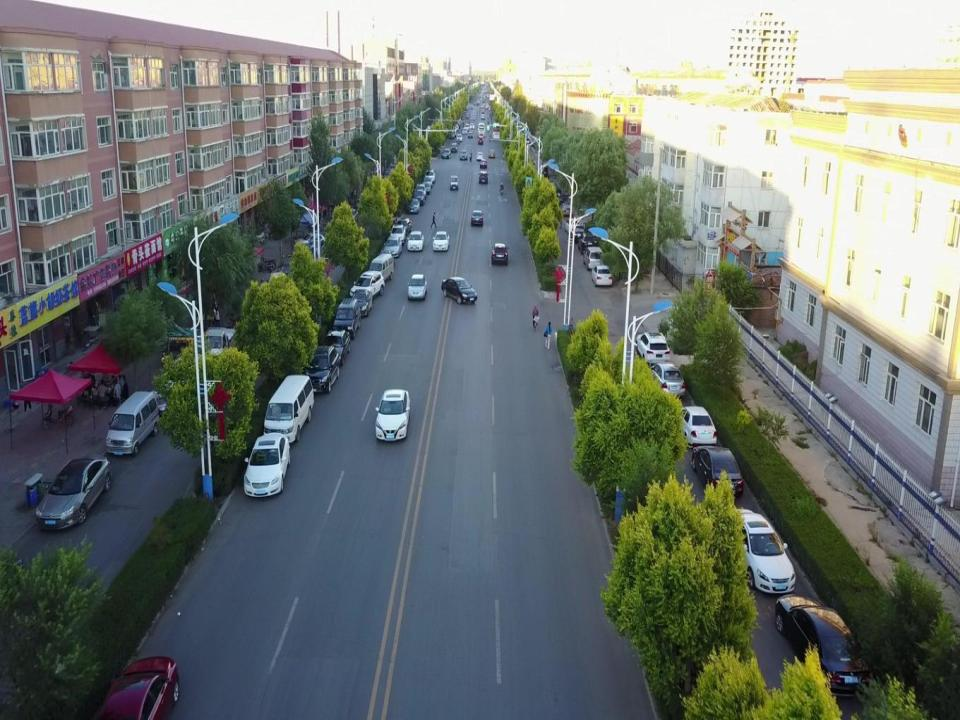car: (775, 594, 875, 696), (724, 508, 796, 594), (35, 454, 112, 530), (92, 655, 179, 720), (243, 431, 291, 499), (691, 444, 744, 499), (300, 344, 340, 394), (375, 389, 411, 441), (676, 406, 717, 449), (647, 362, 686, 398), (332, 297, 361, 340), (635, 331, 671, 365), (320, 327, 351, 366), (348, 269, 385, 301), (440, 277, 478, 304), (292, 232, 330, 255), (348, 289, 373, 318), (406, 273, 428, 300), (591, 265, 613, 287), (490, 243, 510, 265), (578, 231, 597, 253), (384, 235, 402, 258), (389, 223, 406, 246), (432, 231, 450, 252), (564, 216, 582, 236), (407, 231, 424, 252), (378, 248, 396, 266), (396, 216, 413, 234), (571, 225, 587, 244), (406, 196, 421, 214), (559, 200, 574, 217), (470, 210, 484, 227), (411, 188, 425, 205), (414, 182, 427, 198), (420, 181, 432, 195), (424, 168, 436, 182), (478, 170, 489, 185), (449, 174, 459, 190), (422, 176, 433, 188), (441, 148, 452, 160), (479, 158, 489, 170), (459, 149, 468, 161), (487, 149, 496, 160), (476, 151, 484, 162), (450, 142, 458, 153)
truck: (202, 326, 237, 370)
van: (262, 375, 314, 443), (106, 391, 159, 456), (368, 252, 394, 285), (582, 246, 605, 271)
